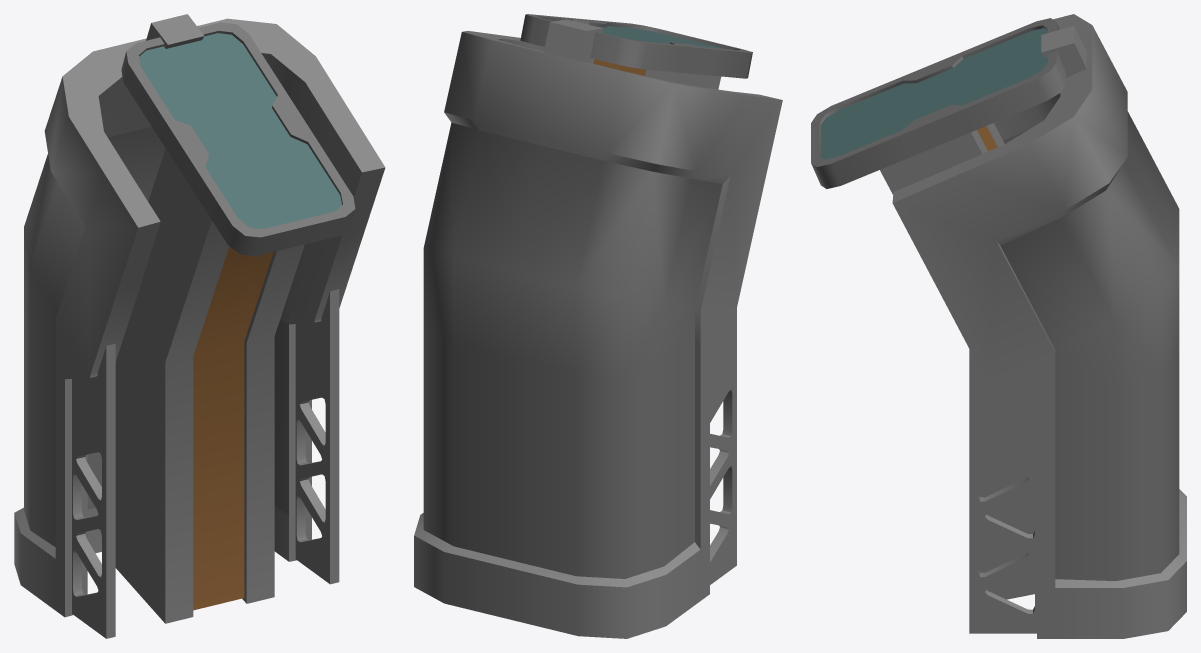
File: Computer.obj
3 views of the same model, side by side, from view 1: azimuth 30°, elevation 25°; view 2: azimuth 150°, elevation 25°; view 3: azimuth 270°, elevation 25° (orthographic).
Visible parts, largest first — view 1: Computer; view 2: Computer; view 3: Computer.
Part boxes in pixels (x1,y1,x2,y2): Computer: [14, 14, 385, 638]; Computer: [414, 14, 782, 638]; Computer: [811, 14, 1186, 638].
Size of the model in its own units: 0.4697 by 1.01 by 0.6293.
